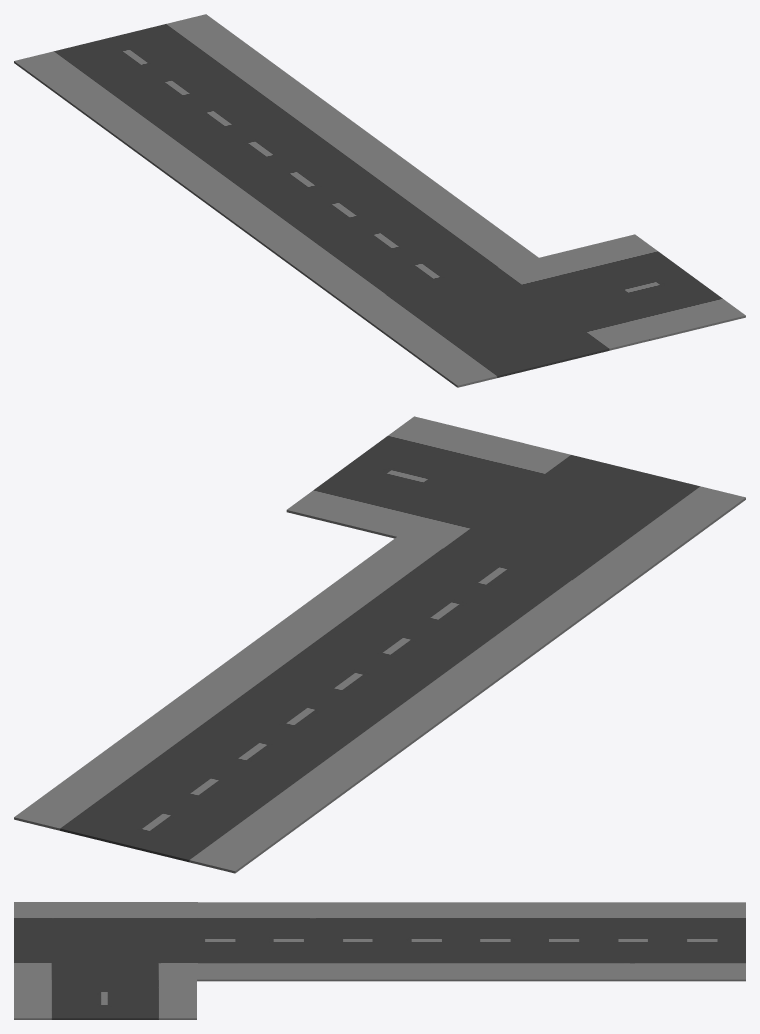
The model's file is Road_L.fbx.
3 views of the same model, one above another, from view 1: azimuth 30°, elevation 25°; view 2: azimuth 150°, elevation 25°; view 3: azimuth 270°, elevation 25° (orthographic). The views are drawn at different scales.
Parts seen in each view (by area): view 1: pPlane74; view 2: pPlane74; view 3: pPlane74.
Boxes of the visible parts, x1=… form: pPlane74: x1=14, y1=14, x2=745, y2=387; pPlane74: x1=14, y1=416, x2=745, y2=873; pPlane74: x1=14, y1=902, x2=745, y2=1019.
Size of the model in its own units: 3 by 0.02 by 8.
